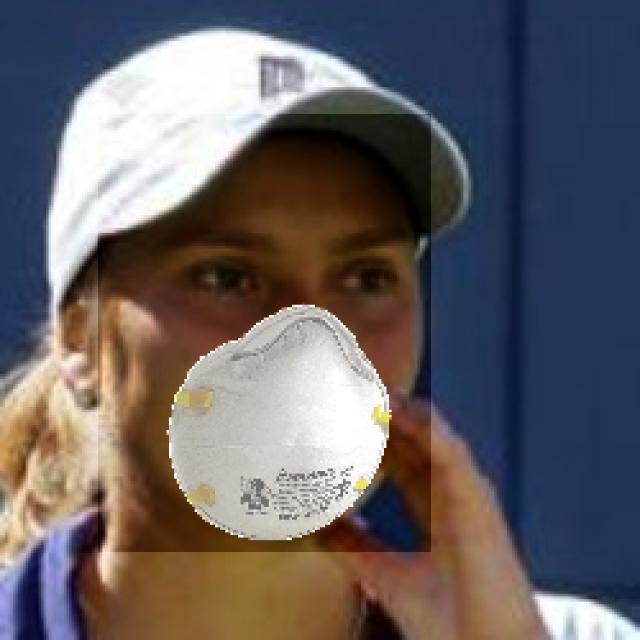n95: (98, 113, 431, 552)
